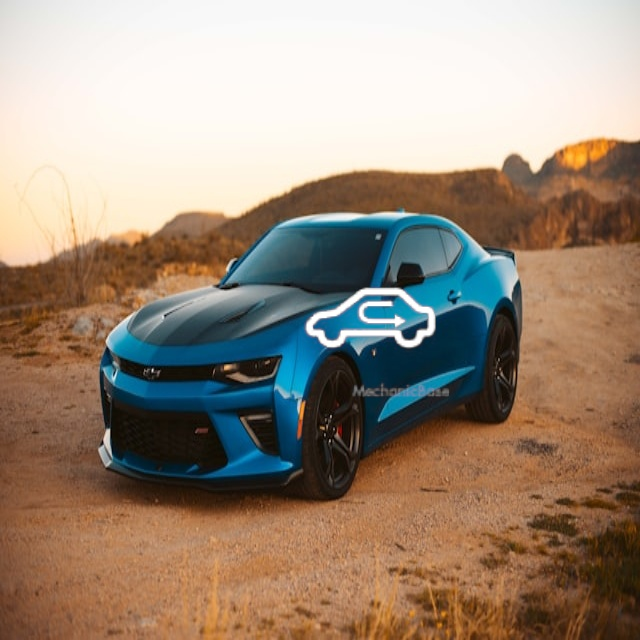symbol: (286, 235, 456, 405)
